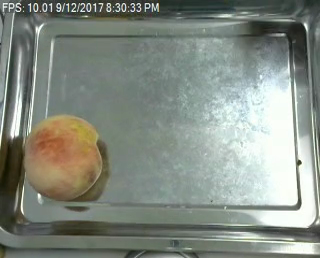Peach: (23, 113, 104, 201)
